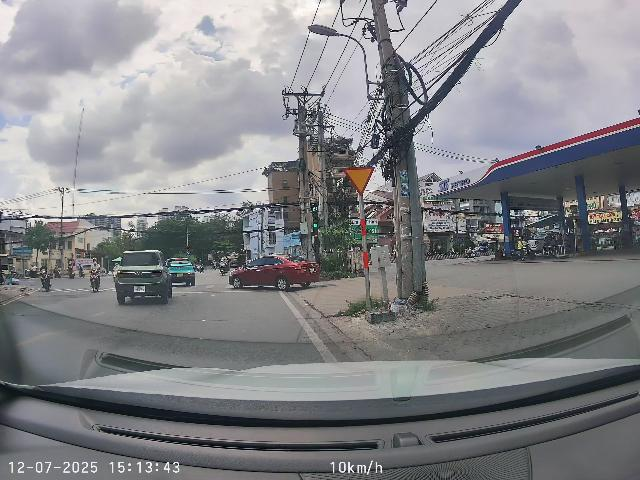208-giao-nhau-voi-duong-uu-tien: (342, 167, 375, 195)
